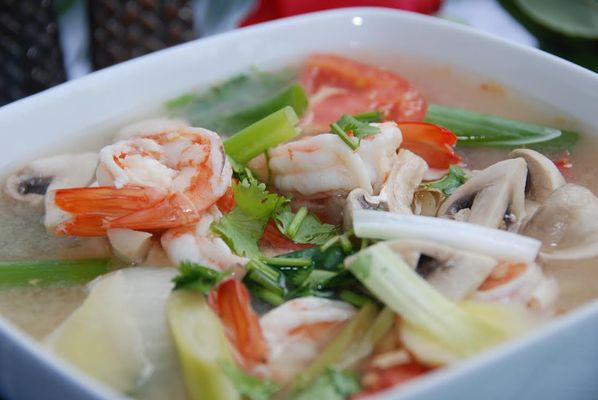sushi: (0, 6, 598, 397)
